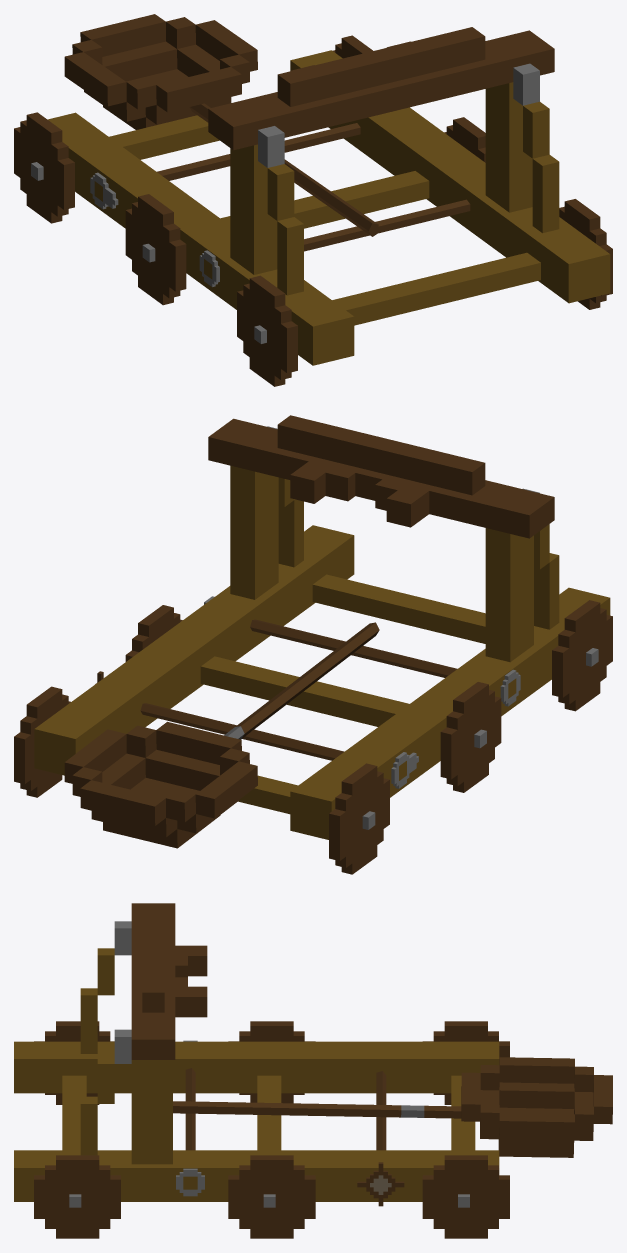
Rendered from Catapult.fbx.
The picture shows the model from 3 angles, top to bottom: view 1: azimuth 30°, elevation 25°; view 2: azimuth 150°, elevation 25°; view 3: azimuth 270°, elevation 25°; orthographic projection. The views are drawn at different scales.
Visible parts, largest first — view 1: Catapult_Frame, Catapult_Arm; view 2: Catapult_Frame, Catapult_Arm; view 3: Catapult_Frame, Catapult_Arm.
Boxes of the visible parts, bbox=[...] form: Catapult_Frame: bbox=[14, 27, 612, 386]; Catapult_Arm: bbox=[64, 14, 378, 236]; Catapult_Frame: bbox=[14, 415, 612, 874]; Catapult_Arm: bbox=[64, 622, 379, 848]; Catapult_Frame: bbox=[14, 903, 509, 1238]; Catapult_Arm: bbox=[173, 1057, 612, 1157].
Bounding box in the file's own units: 590 × 419 × 1041.
